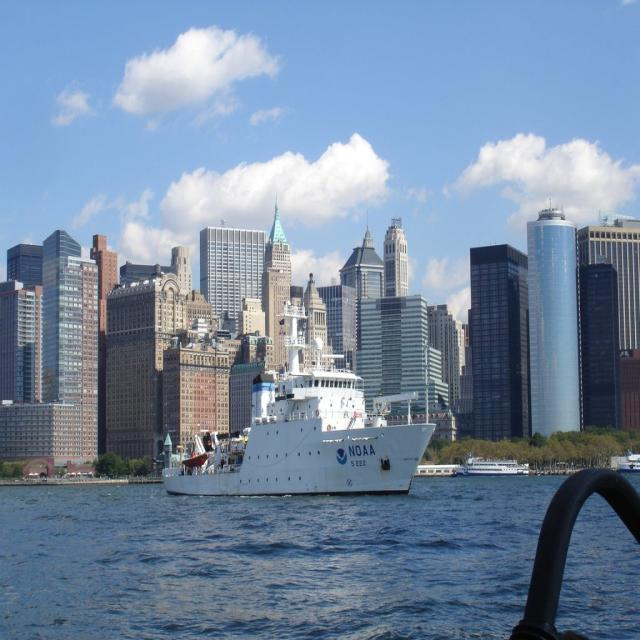Boat: (166, 327, 467, 500), (450, 459, 518, 475), (614, 452, 640, 472)
